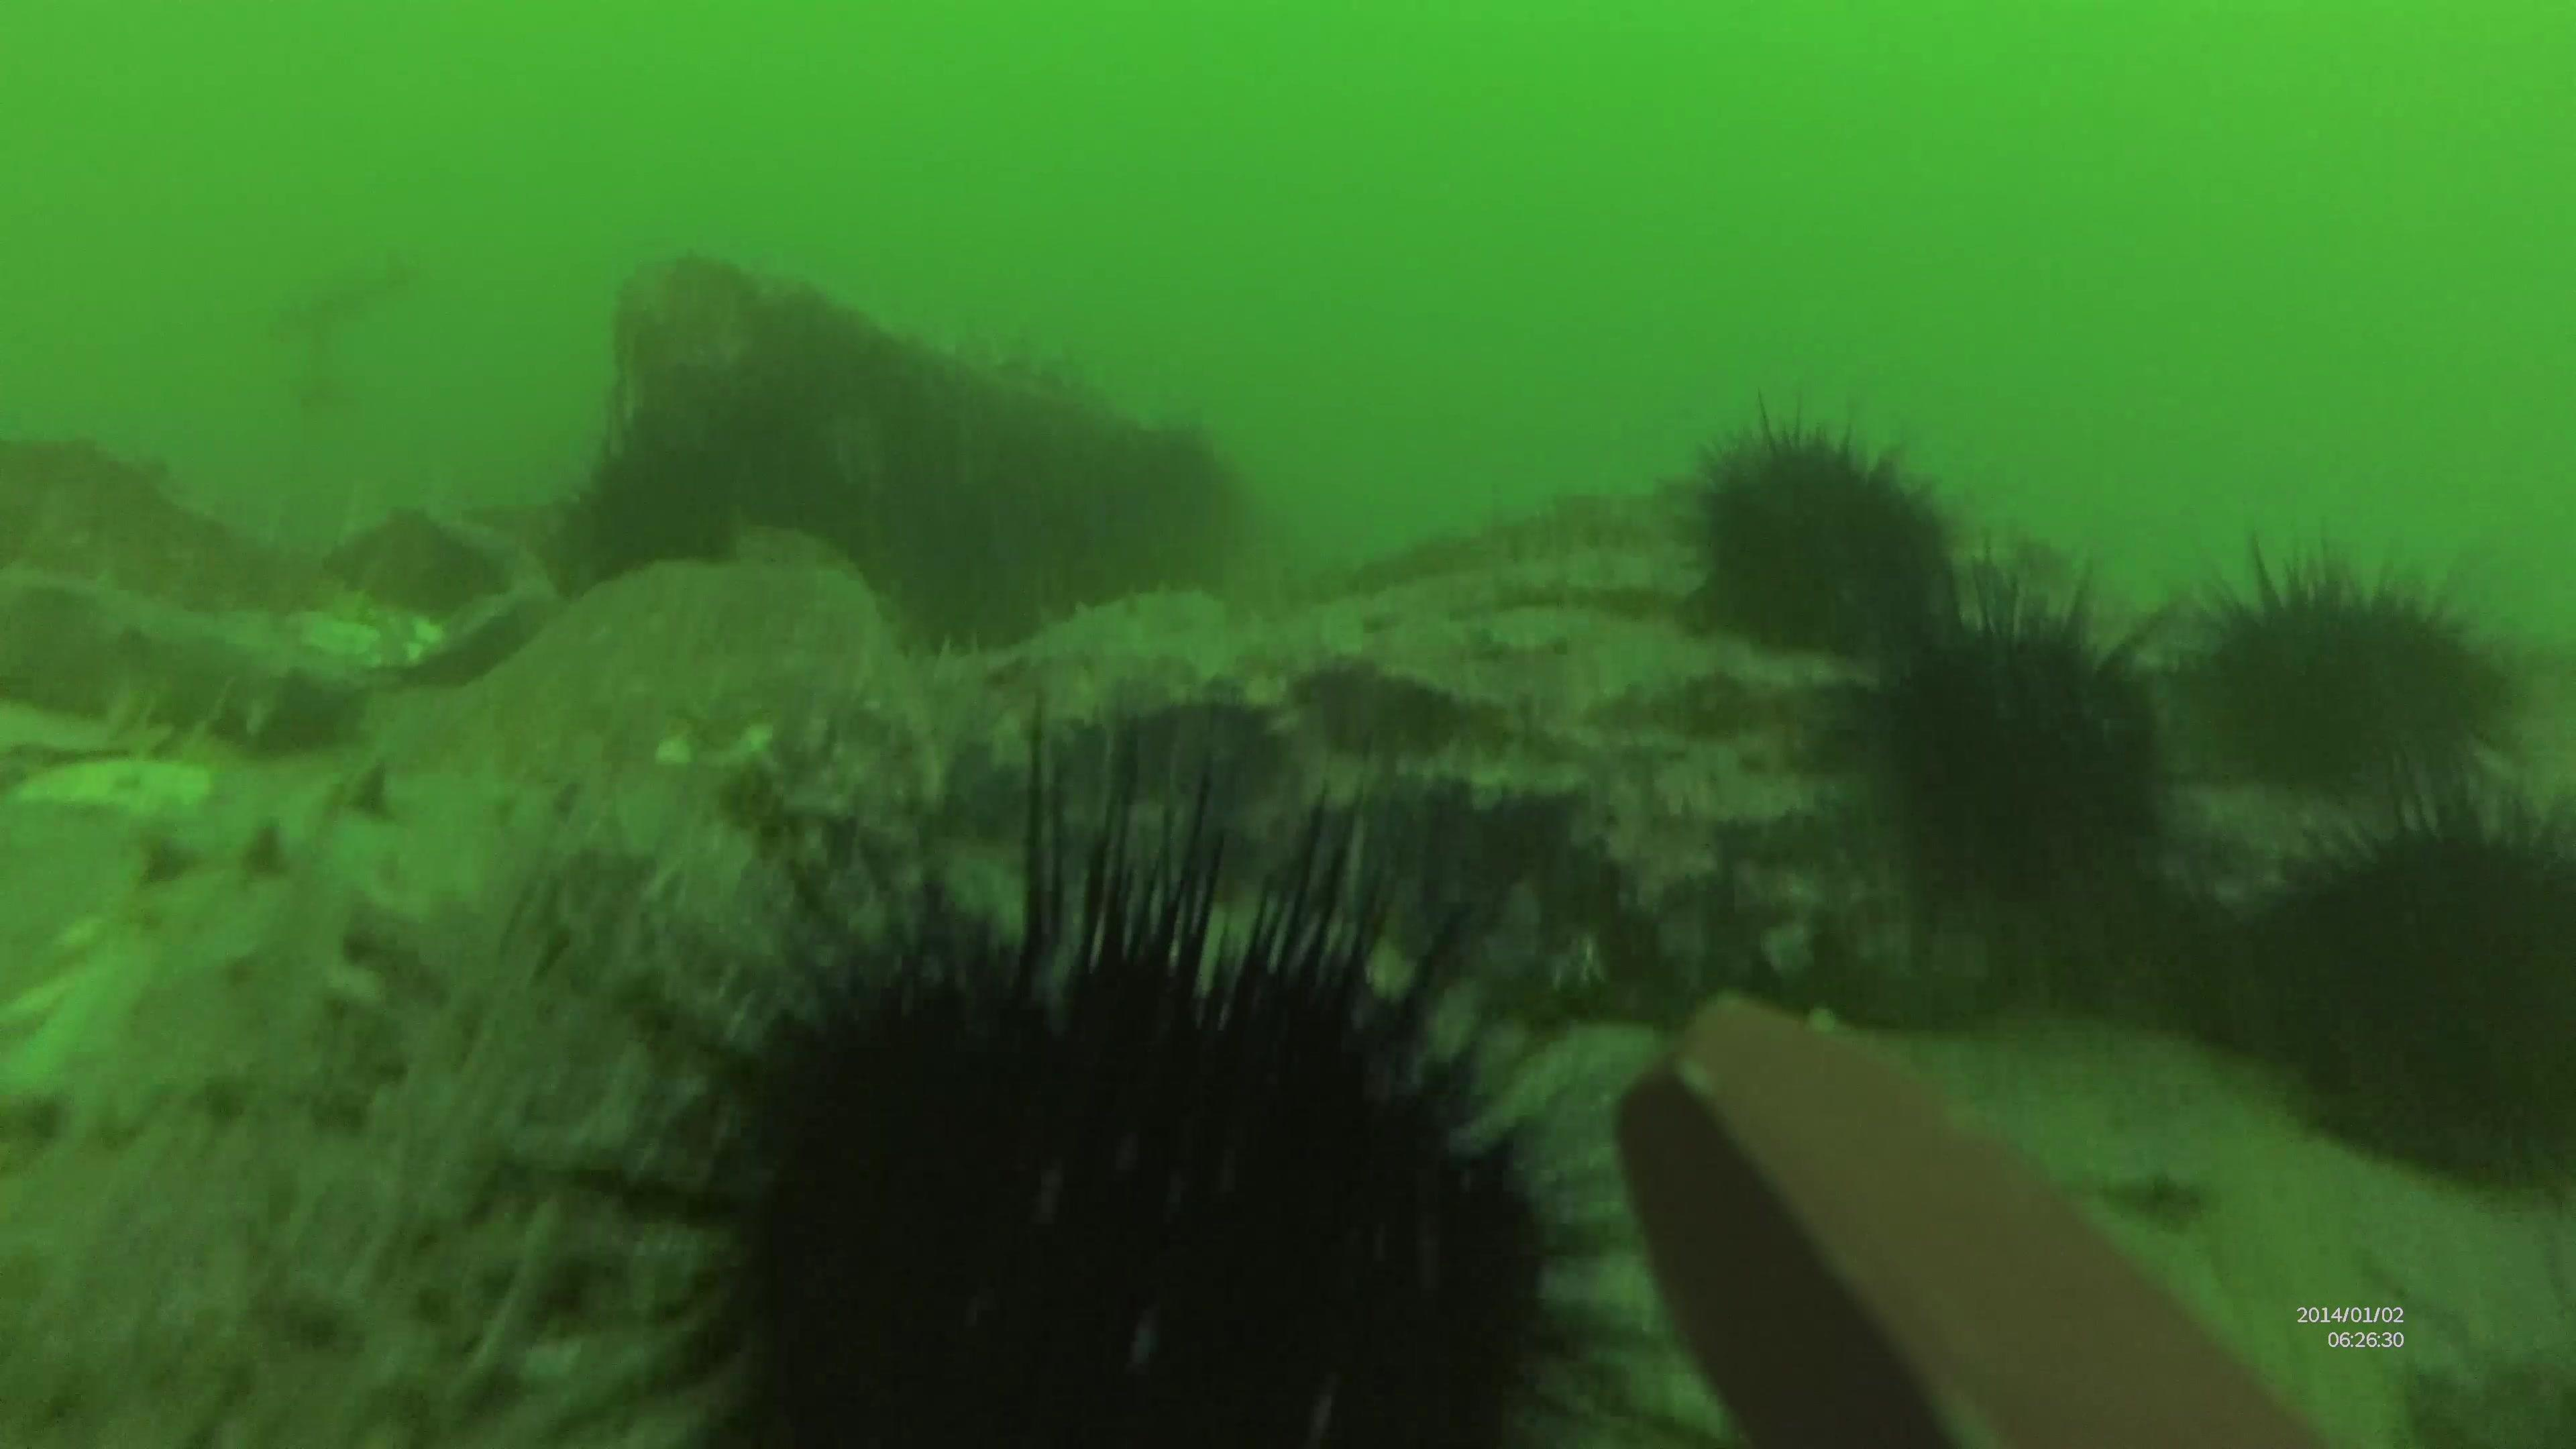echinus: (529, 683, 1656, 1449), (1854, 543, 2233, 957), (2242, 794, 2574, 1184), (2185, 531, 2565, 830), (1661, 386, 1976, 678)
holothurian: (7, 803, 396, 1449), (5, 547, 370, 757), (860, 579, 1237, 764)
